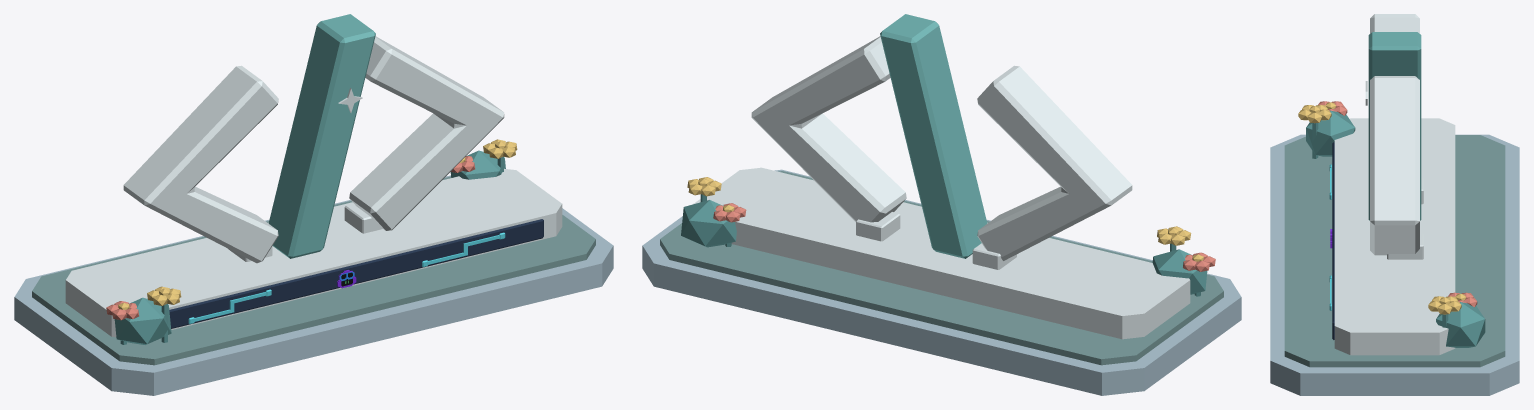
File: campus_code_sculpture.glb
3 views of the same model, side by side, from view 1: azimuth 30°, elevation 25°; view 2: azimuth 150°, elevation 25°; view 3: azimuth 270°, elevation 25° (orthographic). The views are drawn at different scales.
Visible parts, largest first — view 1: campus_code_sculpture; view 2: campus_code_sculpture; view 3: campus_code_sculpture.
Boxes of the visible parts, left/top/right/bottom form: campus_code_sculpture: left=14, top=14, right=613, bottom=395; campus_code_sculpture: left=642, top=14, right=1241, bottom=395; campus_code_sculpture: left=1270, top=14, right=1519, bottom=395.
Size of the model in its own units: 4.3 by 2.13 by 1.9.
Materials: 1 (1 with a texture image).
